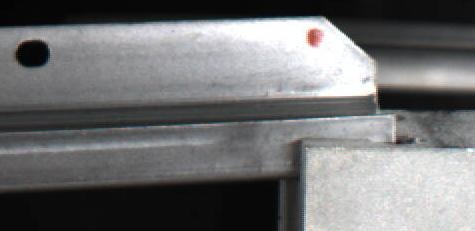cut: (250, 14, 404, 172)
holes: (13, 37, 52, 68)
